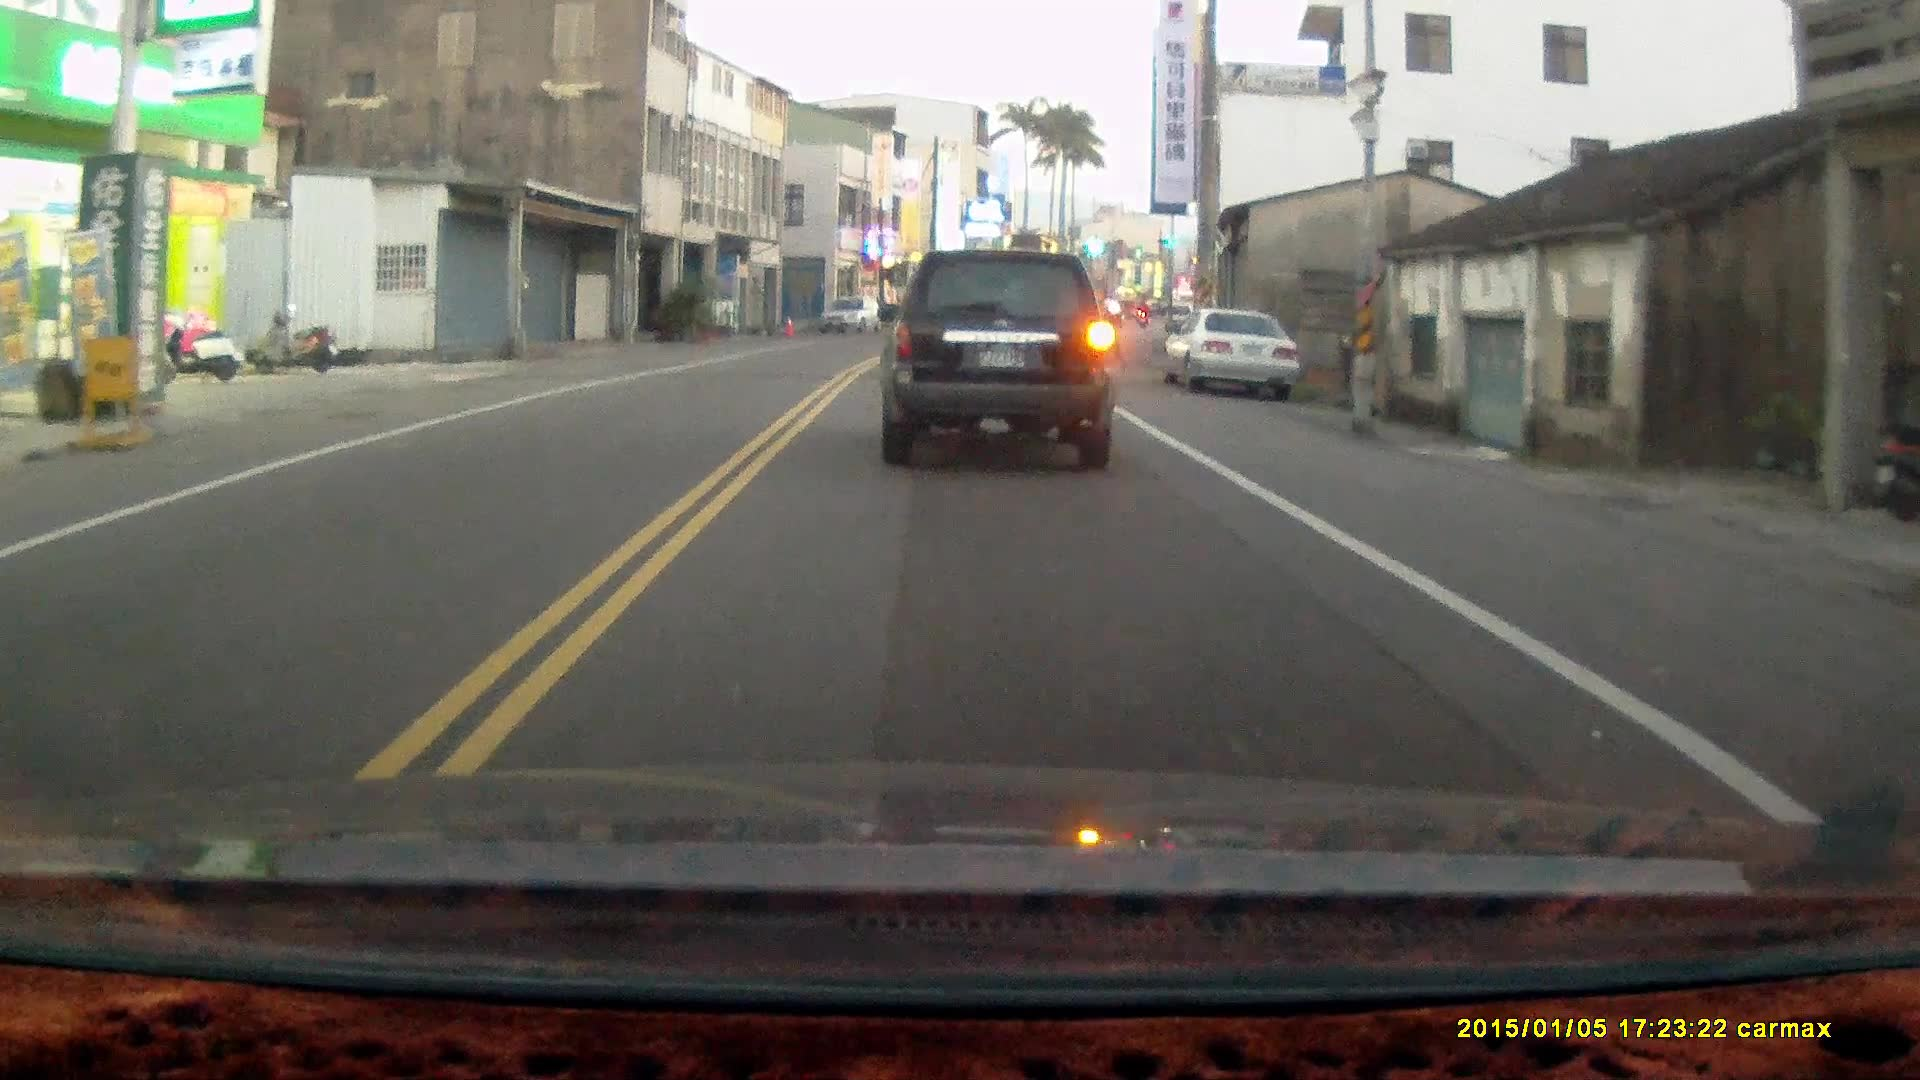vehicle: (880, 244, 1122, 473), (1166, 305, 1302, 397), (820, 298, 884, 343)
